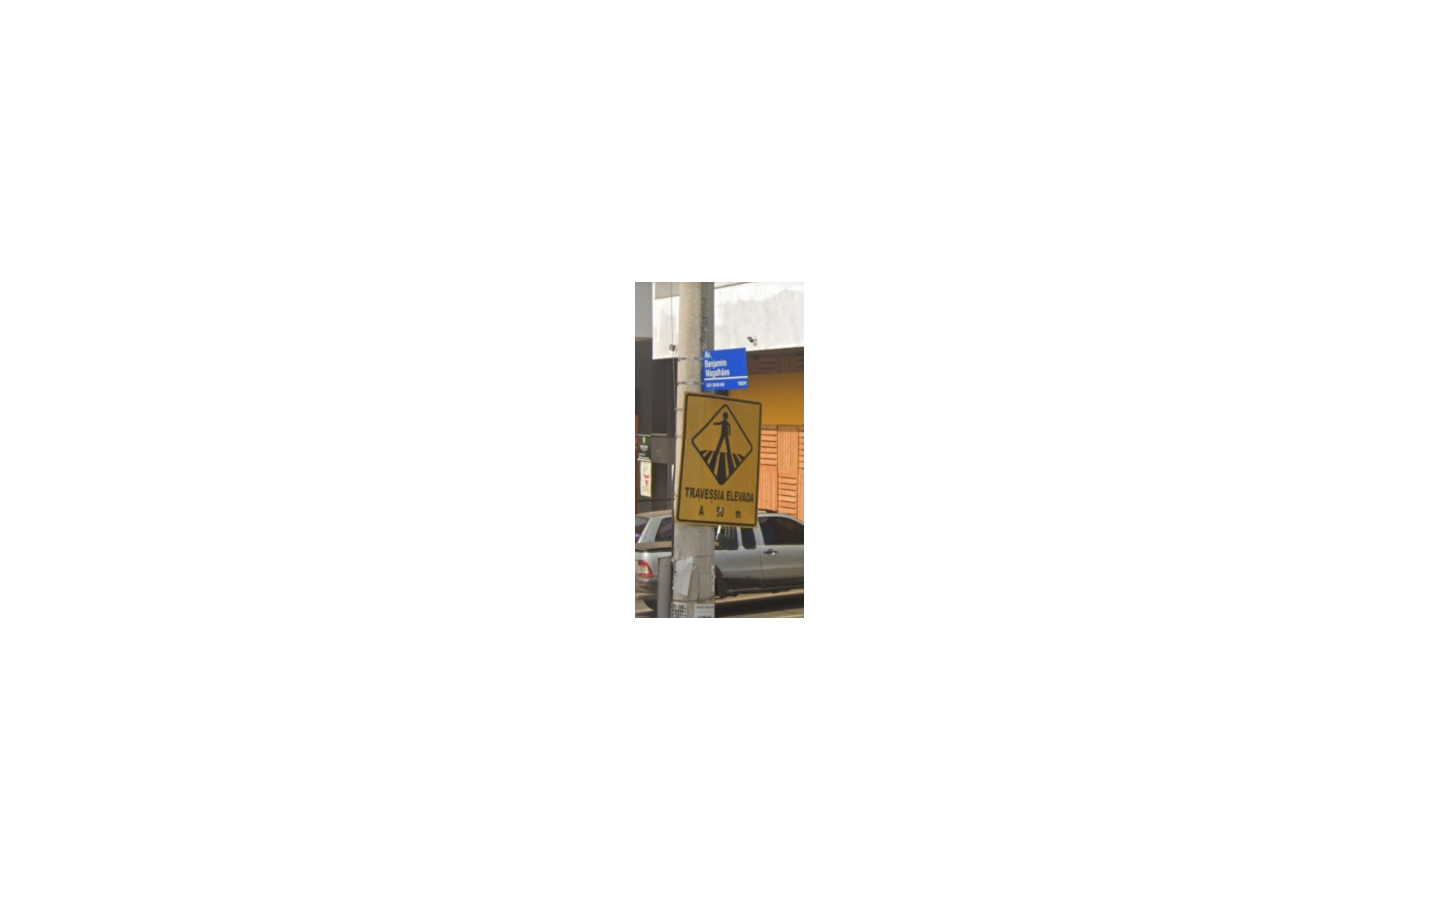t50m: (676, 391, 762, 528)
